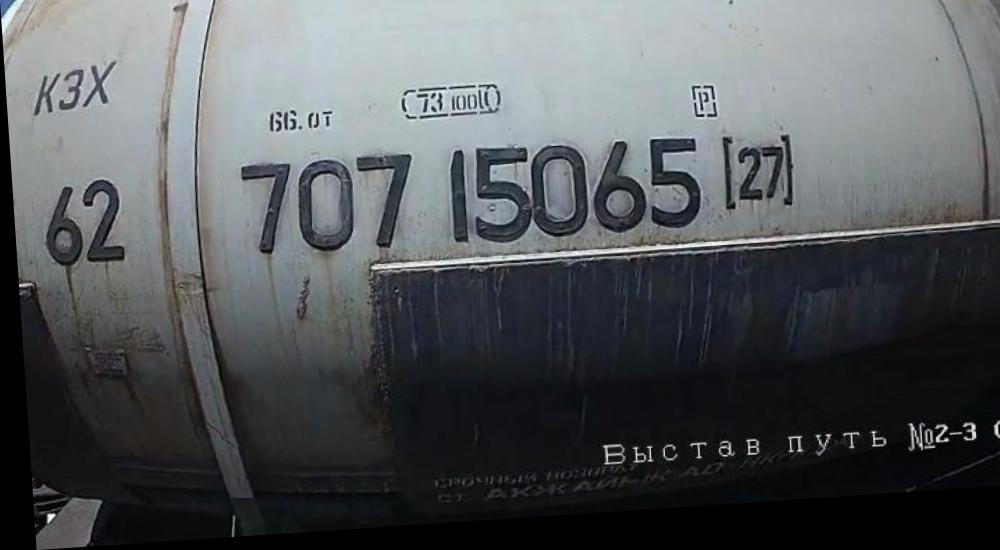Wagon-number: (230, 137, 709, 266)
